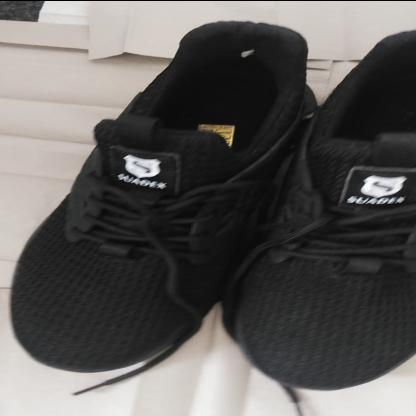safety-shoe: (10, 15, 416, 390)
